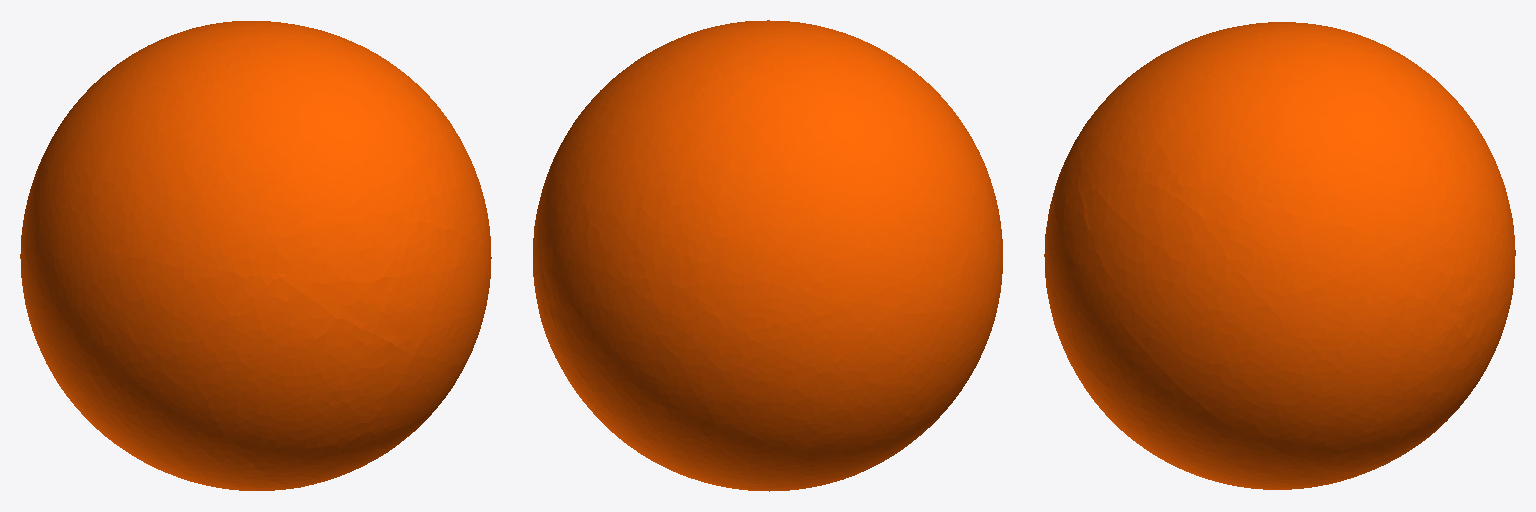
The robot description file, URDF, robot "057_racquetball":
<?xml version="1.0" ?>
<robot name="057_racquetball">
   <material name="obj_color">
      <color rgba="1.0 0.423529411765 0.0392156862745 1.0"/>
   </material>
   <link name="top">
      <inertial>
         <origin rpy="5.535841577850135e-05 5.57172590139166e-05 5.575651993010886e-05" xyz="0.0007719752351917142 -0.001207647052573622 -0.003498691666970549"/>
         <mass value="0.1784796861201905"/>
         <inertia ixx="5.571536781951666e-05" ixy="4.83986461815964e-08" ixz="-1.22345068026247e-09" iyy="5.538500768644934e-05" iyz="-8.664731633156266e-08" izz="5.57318192165608e-05"/>
      </inertial>
      <visual>
         <origin rpy="0 0 0" xyz="0 0 0"/>
         <geometry>
            <mesh filename="top_watertight_tiny.stl" scale="1 1 1"/>
         </geometry>
         <material name="obj_color"/>
      </visual>
      <collision>
         <origin rpy="0 0 0" xyz="0 0 0"/>
         <geometry>
            <mesh filename="top_watertight_tiny.obj" scale="1 1 1"/>
         </geometry>
      </collision>
   </link>
   <link name="bottom">
      <inertial>
         <origin rpy="1.633333333199431e-08 1.633333333199431e-08 1.633333333362855e-08" xyz="0.3464080000000008 0.3464080000000008 0.3464080000000008"/>
         <mass value="0.0009800000000000017"/>
         <inertia ixx="1.633333333253906e-08" ixy="5.447480642029219e-19" ixz="5.447480642029219e-19" iyy="1.633333333253906e-08" iyz="5.447480642029219e-19" izz="1.633333333253906e-08"/>
      </inertial>
      <visual>
         <origin rpy="0 0 0" xyz="0 0 0"/>
         <geometry>
            <mesh filename="bottom_watertight_tiny.stl" scale="1 1 1"/>
         </geometry>
         <material name="obj_color"/>
      </visual>
   </link>
   <joint name="rotation" type="revolute">
      <origin xyz="0 0 0"/>
      <axis xyz="0 0 -1"/>
      <parent link="bottom"/>
      <child link="top"/>
      <dynamics damping="1.0" friction="1.0"/>
      <limit effort="0.1" velocity="0.1" lower="0" upper="0.001"/>
   </joint>
</robot>

--- Render facts (derived) ---
The picture shows the robot from 3 angles, left to right: view 1: azimuth 30°, elevation 25°; view 2: azimuth 150°, elevation 25°; view 3: azimuth 270°, elevation 25°; orthographic projection.
Robot: 057_racquetball — 2 links, 1 joints (1 revolute); root link bottom; default pose: every joint at zero.
Visible links, largest first — view 1: top; view 2: top; view 3: top.
Boxes of the visible links, x1,y1,x2,y2 form: top: (20, 21, 491, 490); top: (533, 20, 1002, 491); top: (1044, 22, 1515, 489).
Bounding box of the posed robot: 0.0558 × 0.0561 × 0.0556 m (x, y, z).
1 mesh visuals loaded from 2 distinct referenced files (1 binary STL); not drawn: 1 (reference not matched to a file when rendering).
